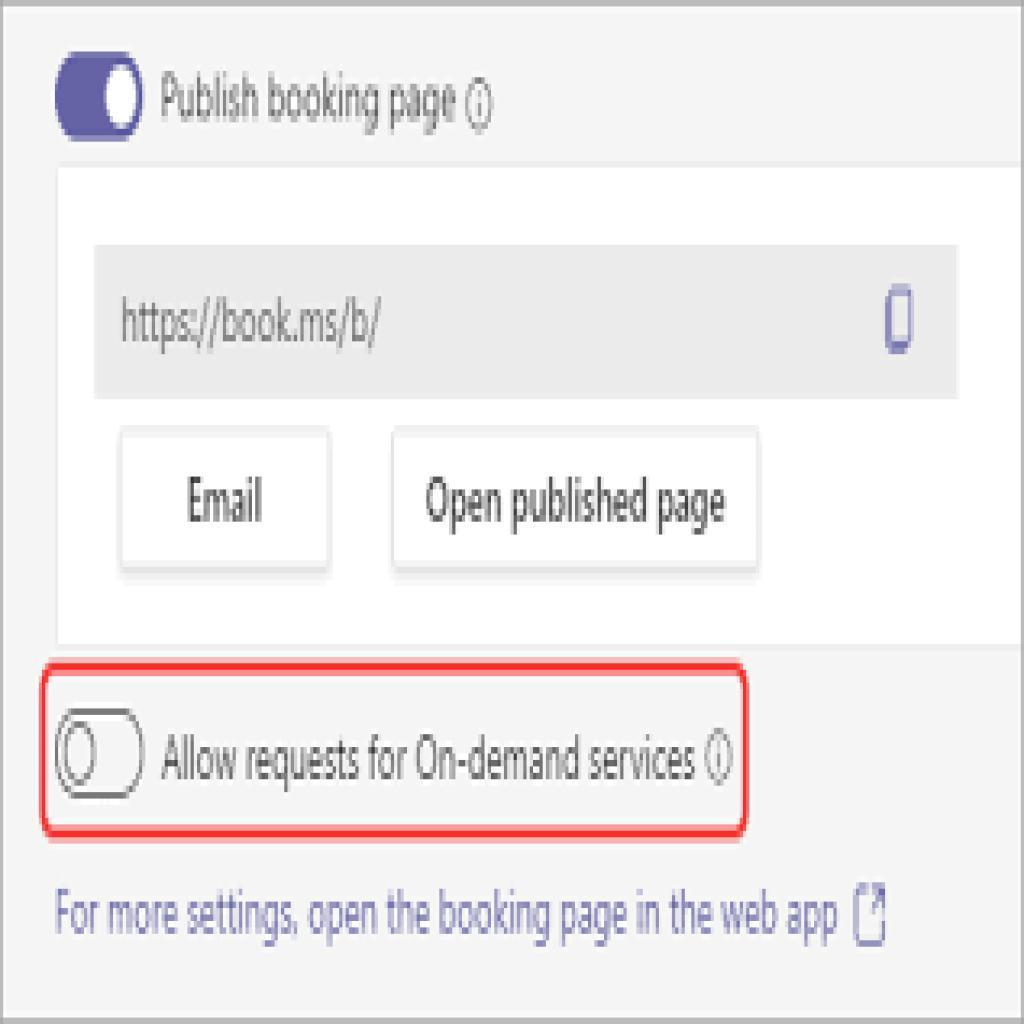button: (395, 428, 763, 568), (122, 429, 332, 566)
icon: (848, 878, 898, 954), (705, 727, 737, 789)
input: (99, 243, 960, 399)
switch: (54, 704, 154, 805), (51, 43, 146, 144)
